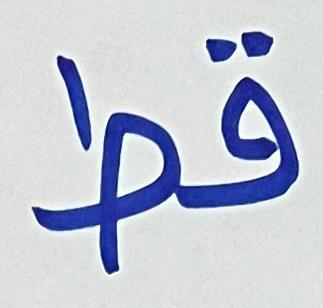qaf: (198, 27, 306, 213)
tah: (22, 49, 195, 276)
